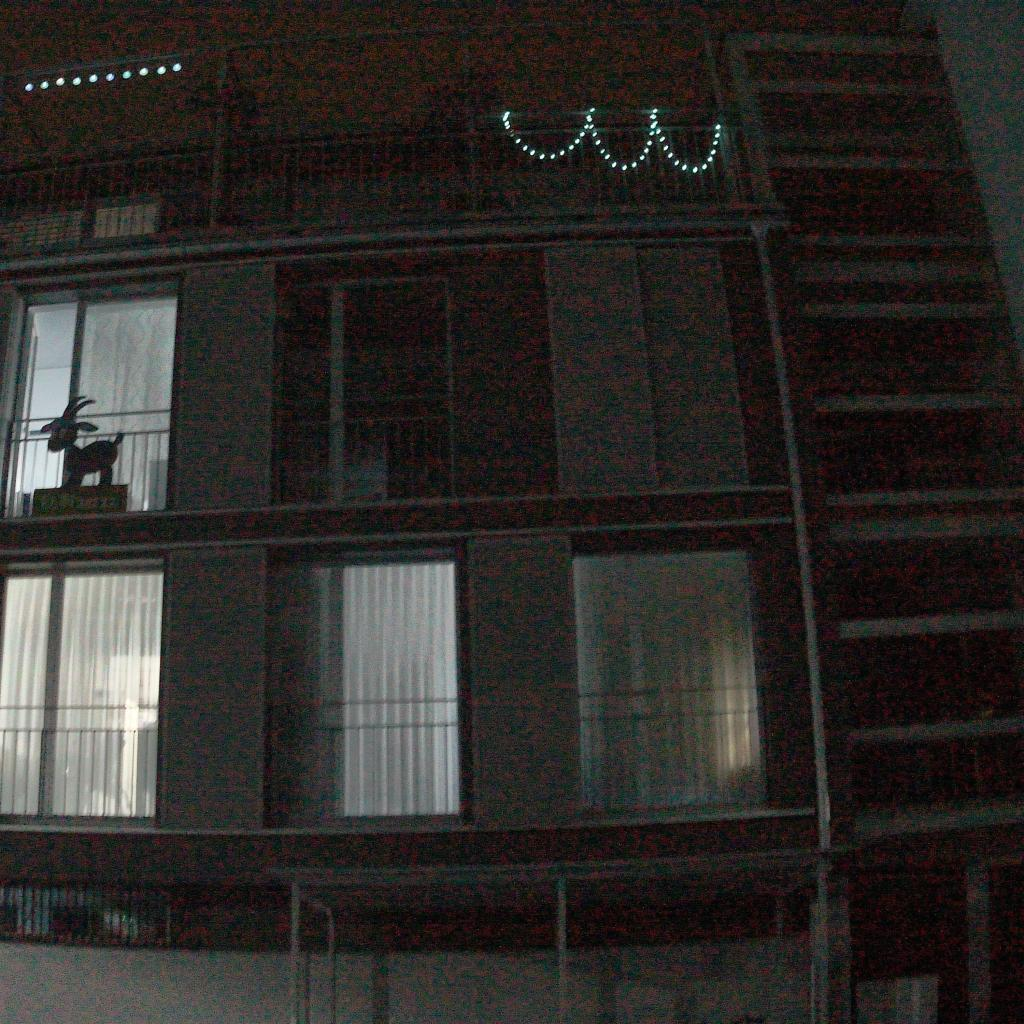balcony-fence: (0, 126, 782, 255)
facade: (275, 227, 821, 813)
non-building-infrastructure: (292, 853, 857, 1024)
window: (269, 551, 469, 822), (574, 550, 767, 811), (548, 249, 747, 490), (0, 554, 170, 824), (3, 283, 180, 514), (272, 279, 454, 502)
